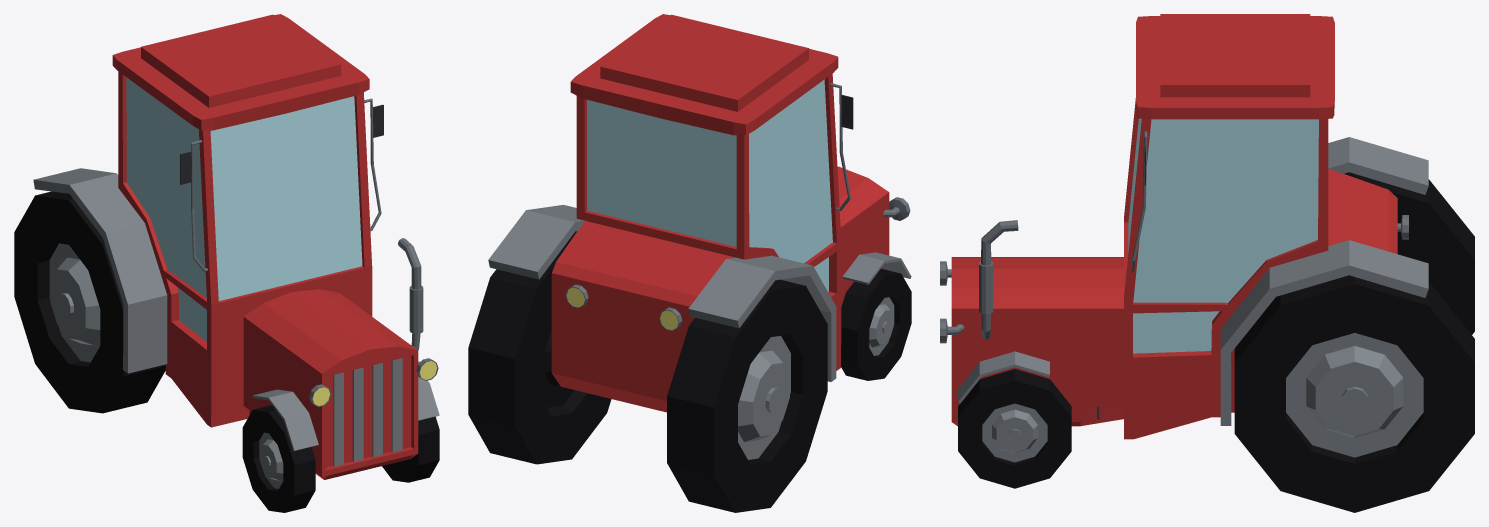
Rendered from Tractor_Red.fbx.
3 renders of one model, left to right at view 1: azimuth 30°, elevation 25°; view 2: azimuth 150°, elevation 25°; view 3: azimuth 270°, elevation 25°, orthographic. The views are drawn at different scales.
Parts seen in each view (by area): view 1: Tractor_Red; view 2: Tractor_Red; view 3: Tractor_Red.
Boxes of the visible parts, x1,y1,x2,y2 form: Tractor_Red: (14,14,439,512); Tractor_Red: (468,14,911,512); Tractor_Red: (940,14,1474,512).
Bounding box in the file's own units: 175 × 250 × 303.
